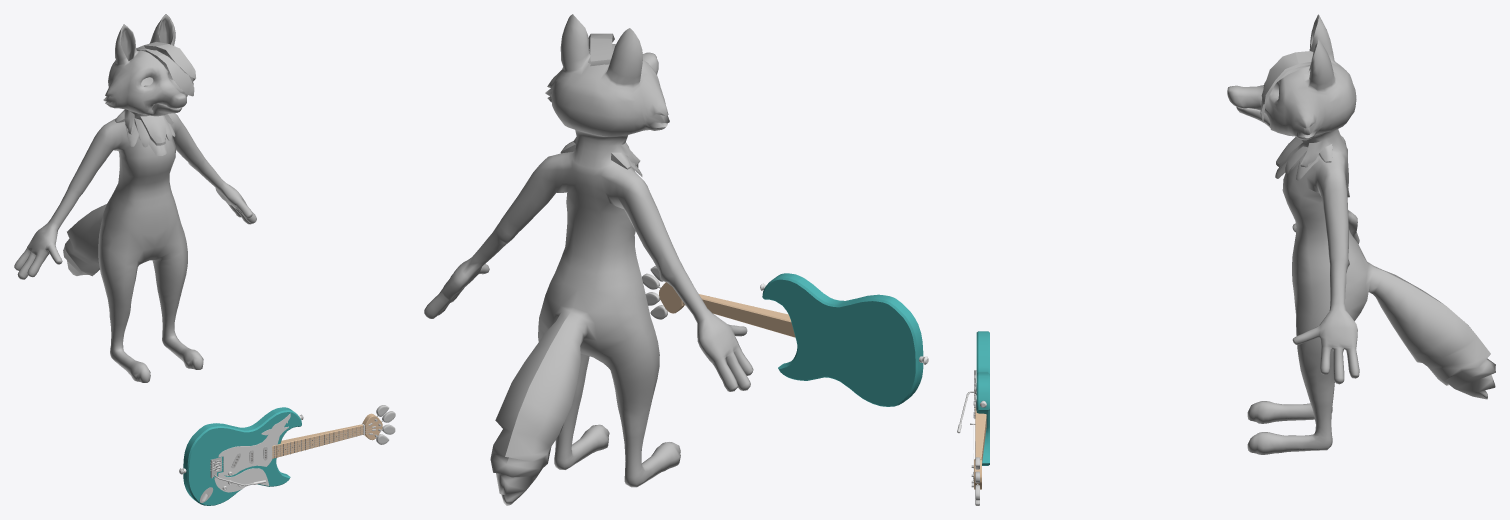
File: Smoothed Guitar2.fbx
3 views of the same model, side by side, from view 1: azimuth 30°, elevation 25°; view 2: azimuth 150°, elevation 25°; view 3: azimuth 270°, elevation 25° (orthographic). The views are drawn at different scales.
Visible parts, largest first — view 1: polySurface77, Body, PickGuard, Neck; view 2: polySurface77, Body, Neck; view 3: polySurface77, Body.
Part boxes in pixels (x1,y1,x2,y2): polySurface77: (14,14,256,382); Body: (183,407,301,505); PickGuard: (214,413,290,492); Neck: (272,424,363,458); polySurface77: (424,14,753,505); Body: (762,273,923,406); Neck: (682,294,795,337); polySurface77: (1227,14,1495,454); Body: (976,331,989,465).
Size of the model in its own units: 0.6751 by 1 by 1.1.
